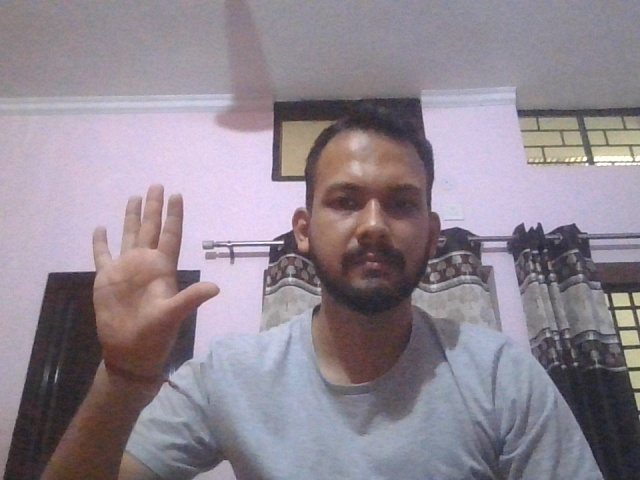hello: (92, 183, 221, 361)
